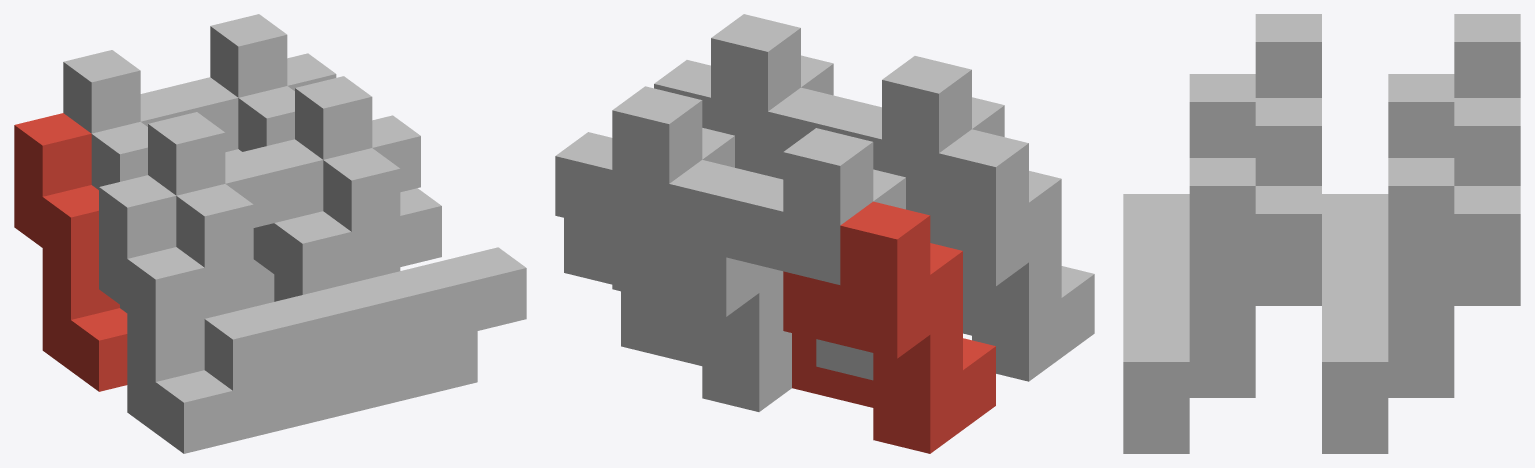
File: tiling.obj
3 renders of one model, left to right at view 1: azimuth 30°, elevation 25°; view 2: azimuth 150°, elevation 25°; view 3: azimuth 270°, elevation 25°, orthographic. The views are drawn at different scales.
Visible parts, largest first — view 1: copy_1_domain_4, copy_1_domain_2, copy_1_domain_8, copy_1_domain_1, copy_1_domain_6, copy_1_domain_7, copy_1_domain_3, copy_1_domain_5; view 2: copy_1_domain_1, copy_1_domain_2, copy_1_domain_5, copy_1_domain_7, copy_1_domain_3, copy_1_domain_4, copy_1_domain_8, copy_1_domain_6; view 3: copy_1_domain_7, copy_1_domain_8, copy_1_domain_3, copy_1_domain_4, copy_1_domain_5, copy_1_domain_6.
Boxes of the visible parts, box(x1,y1,x2,y2) form: copy_1_domain_4: box(148, 112, 379, 390); copy_1_domain_2: box(99, 175, 330, 453); copy_1_domain_8: box(295, 76, 526, 354); copy_1_domain_1: box(14, 113, 127, 391); copy_1_domain_6: box(246, 139, 477, 417); copy_1_domain_7: box(210, 14, 441, 266); copy_1_domain_3: box(63, 50, 274, 312); copy_1_domain_5: box(161, 77, 274, 306); copy_1_domain_1: box(783, 201, 995, 453); copy_1_domain_2: box(906, 129, 1094, 381); copy_1_domain_5: box(612, 160, 791, 411); copy_1_domain_7: box(555, 86, 734, 338); copy_1_domain_3: box(726, 128, 905, 380); copy_1_domain_4: box(825, 56, 1004, 307); copy_1_domain_8: box(654, 14, 833, 170); copy_1_domain_6: box(735, 87, 857, 179); copy_1_domain_7: box(1322, 98, 1520, 421); copy_1_domain_8: box(1123, 98, 1321, 421); copy_1_domain_3: box(1322, 14, 1520, 277); copy_1_domain_4: box(1123, 14, 1321, 277); copy_1_domain_5: box(1322, 274, 1520, 453); copy_1_domain_6: box(1123, 274, 1321, 453).
Size of the model in its own units: 7 by 5 by 6.
